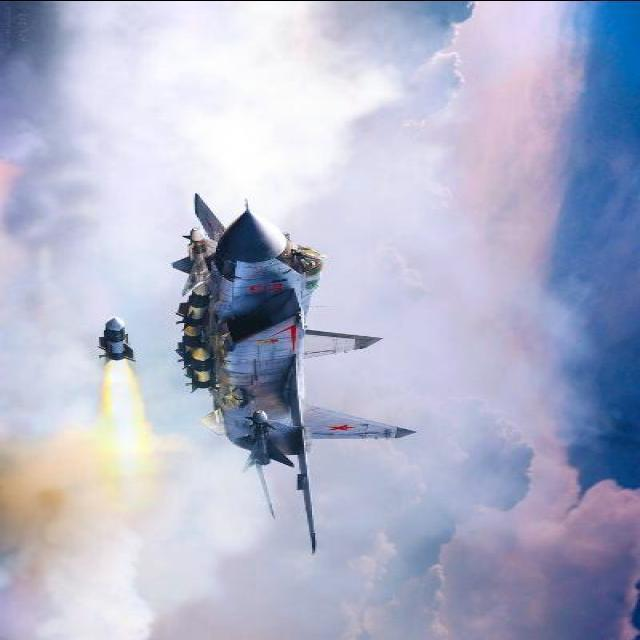missile: (88, 308, 140, 371)
